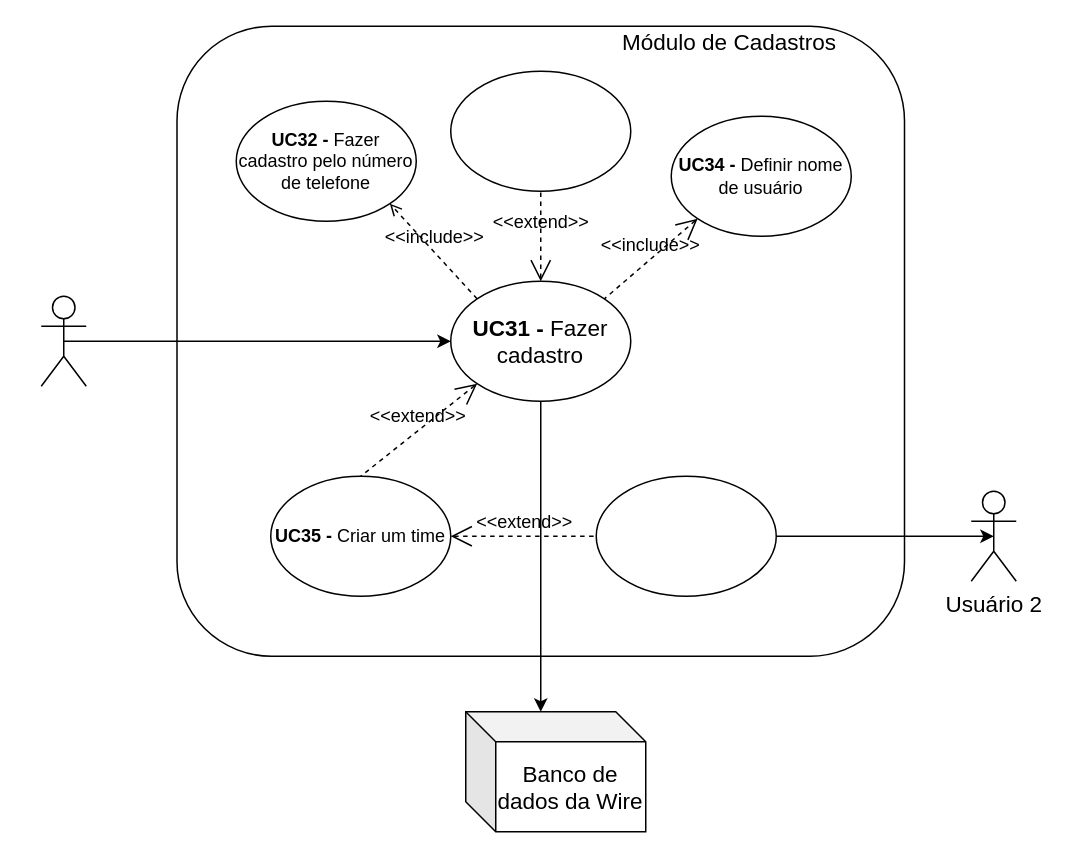
Image size: 1068x858. Some labels were removed from this diagram. The centre of each missing label's shape, as x and y in pixels:
UC33 - Fazer cadastro pelo e-mail: pixel 540 130
UC36 - Adicionar usuários ao seu time: pixel 685 535
Usuário 1: pixel 63 340
